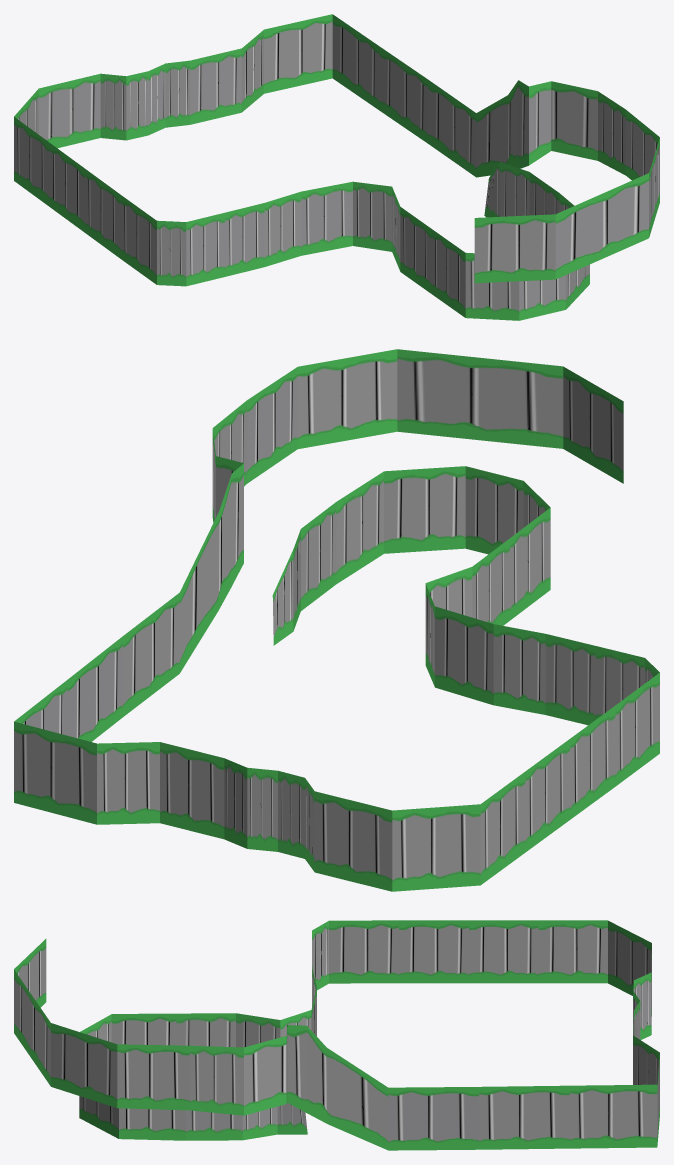
The model's file is wall.fbx.
The picture shows the model from 3 angles, top to bottom: view 1: azimuth 30°, elevation 25°; view 2: azimuth 150°, elevation 25°; view 3: azimuth 270°, elevation 25°; orthographic projection. The views are drawn at different scales.
Visible parts, largest first — view 1: Plane.007; view 2: Plane.007; view 3: Plane.007.
Part boxes in pixels (x1,y1,x2,y2): Plane.007: (14,14,659,320); Plane.007: (14,349,659,891); Plane.007: (14,920,659,1150).
Size of the model in its own units: 50606 by 15861 by 72652.
